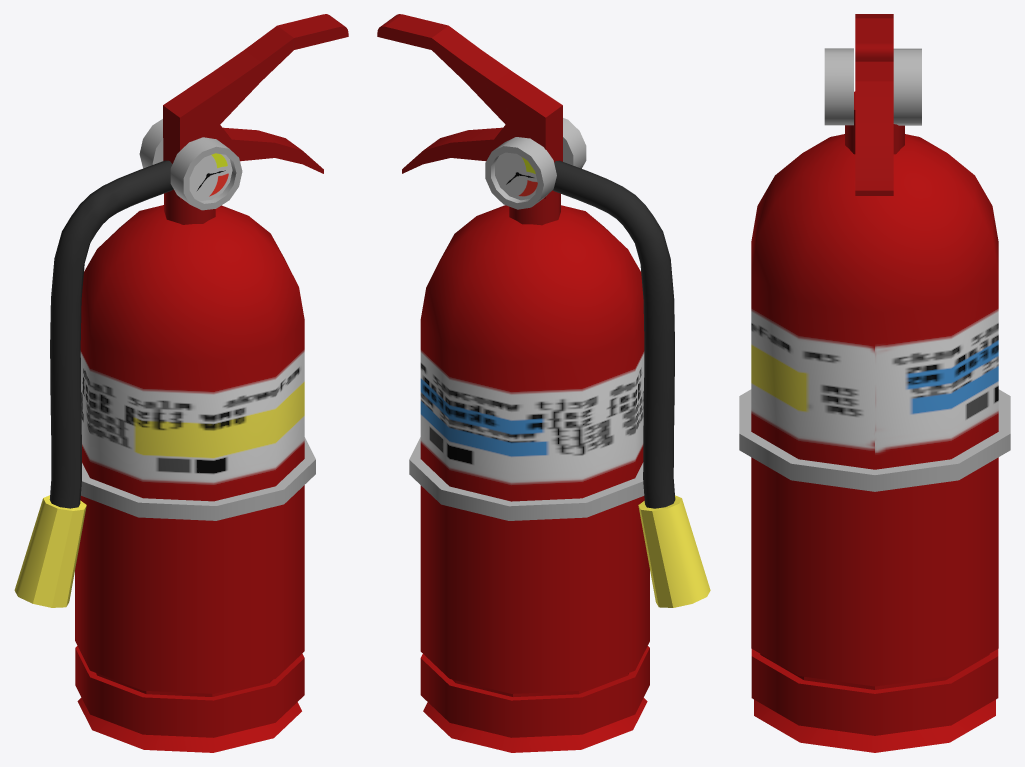
File: masword.FBX
3 views of the same model, side by side, from view 1: azimuth 30°, elevation 25°; view 2: azimuth 150°, elevation 25°; view 3: azimuth 270°, elevation 25° (orthographic). The views are drawn at different scales.
Visible parts, largest first — view 1: Capsule001; view 2: Capsule001; view 3: Capsule001.
Part boxes in pixels (box(x1,y1,x2,y2)): Capsule001: box(14, 14, 348, 752); Capsule001: box(377, 14, 710, 752); Capsule001: box(739, 14, 1010, 752).
Size of the model in its own units: 7.73 by 5.02 by 14.97.
